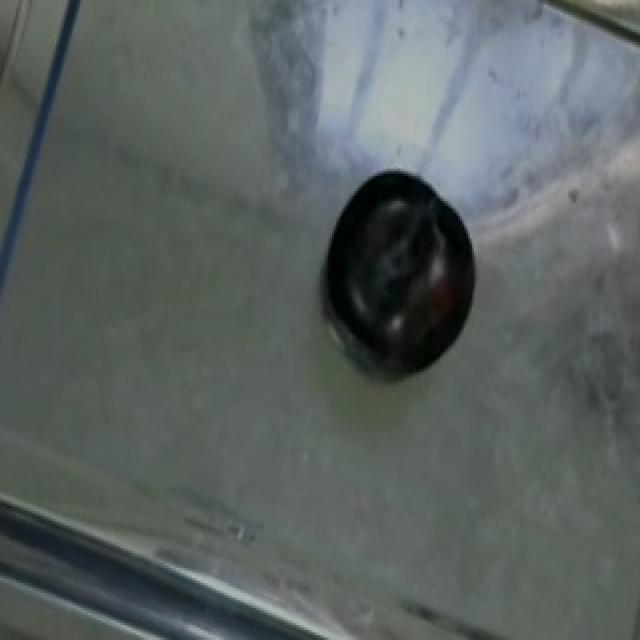Fruit: (294, 171, 510, 397)
